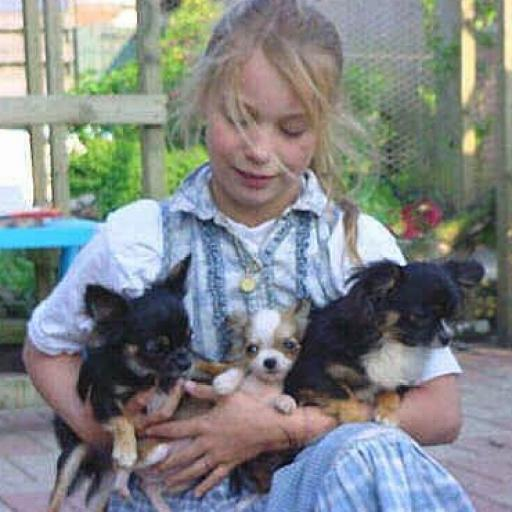dog_face: (357, 255, 486, 363), (93, 273, 203, 381), (228, 302, 314, 385)
